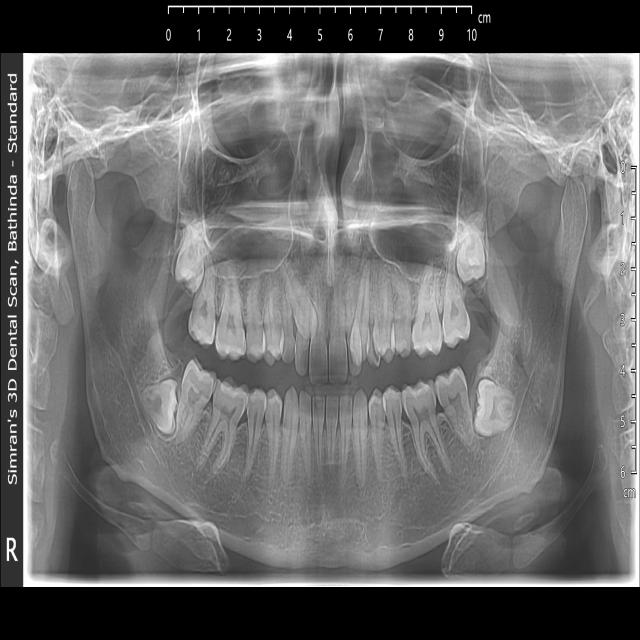impacted tooth: (280, 256, 319, 338), (177, 221, 204, 293), (458, 228, 485, 285)
